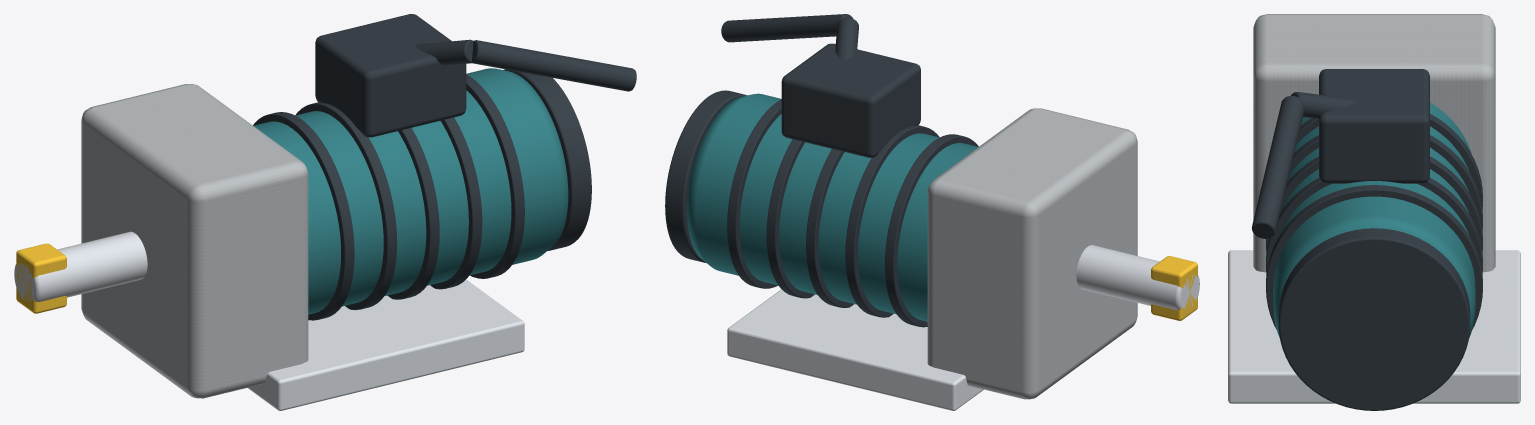
File: CellMotor.gltf
The picture shows the model from 3 angles, left to right: view 1: azimuth 30°, elevation 25°; view 2: azimuth 150°, elevation 25°; view 3: azimuth 270°, elevation 25°; orthographic projection. The views are drawn at different scales.
Parts seen in each view (by area): view 1: Gearbox, Motor housing, Motor mounting, Cooling rib (×5), Terminal box, Shaft, Motor cable (×2), End cap, Motion; view 2: Gearbox, Motor housing, Motor mounting, Cooling rib (×5), Terminal box, Shaft, End cap, Motor cable (×2), Motion; view 3: End cap, Gearbox, Motor mounting, Terminal box, Motor housing, Cooling rib (×5), Motor cable (×2).
Boxes of the visible parts, bbox=[...] form: Gearbox: bbox=[81, 84, 308, 398]; Motor housing: bbox=[253, 68, 568, 314]; Motor mounting: bbox=[247, 279, 524, 410]; Cooling rib (×5): bbox=[253, 74, 524, 320]; Terminal box: bbox=[315, 14, 466, 137]; Shaft: bbox=[14, 231, 147, 302]; Motor cable (×2): bbox=[415, 39, 636, 91]; End cap: bbox=[503, 69, 591, 250]; Motion: bbox=[16, 243, 66, 313]; Gearbox: bbox=[927, 108, 1137, 399]; Motor housing: bbox=[687, 93, 977, 321]; Motor mounting: bbox=[727, 289, 983, 410]; Cooling rib (×5): bbox=[727, 99, 978, 327]; Terminal box: bbox=[781, 43, 920, 157]; Shaft: bbox=[1076, 245, 1199, 310]; End cap: bbox=[665, 90, 746, 262]; Motor cable (×2): bbox=[721, 14, 858, 59]; Motion: bbox=[1151, 256, 1197, 320]; End cap: bbox=[1278, 228, 1470, 410]; Gearbox: bbox=[1253, 14, 1495, 272]; Motor mounting: bbox=[1228, 250, 1520, 403]; Terminal box: bbox=[1319, 69, 1429, 183]; Motor housing: bbox=[1273, 102, 1475, 338]; Cooling rib (×5): bbox=[1266, 114, 1482, 329]; Motor cable (×2): bbox=[1252, 92, 1356, 238].
Size of the model in its own units: 0.6535 by 0.3281 by 0.29.
Materials: 5 (1 with a texture image).
